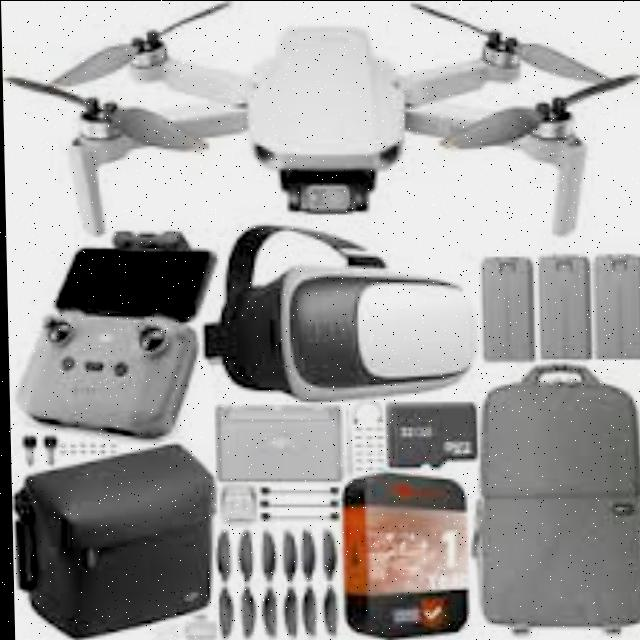drone: (0, 0, 640, 242)
